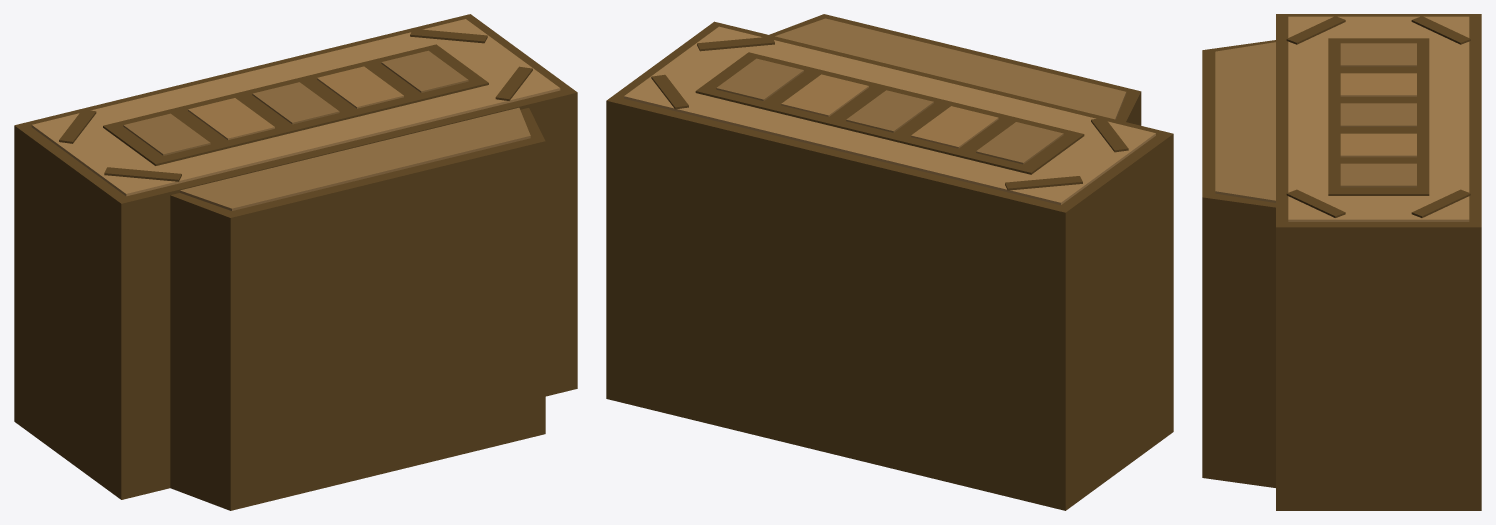
File: bag_caixote.fbx
3 renders of one model, left to right at view 1: azimuth 30°, elevation 25°; view 2: azimuth 150°, elevation 25°; view 3: azimuth 270°, elevation 25°, orthographic. The views are drawn at different scales.
Parts seen in each view (by area): view 1: bag_caixote_mochila; view 2: bag_caixote_mochila; view 3: bag_caixote_mochila.
Part boxes in pixels (box(x1,y1,x2,y2)): bag_caixote_mochila: box(14, 14, 577, 510); bag_caixote_mochila: box(606, 14, 1173, 510); bag_caixote_mochila: box(1202, 14, 1481, 510).
Bounding box in the file's own units: 2.9 × 1.84 × 1.6.
Materials: 1 (1 with a texture image).
